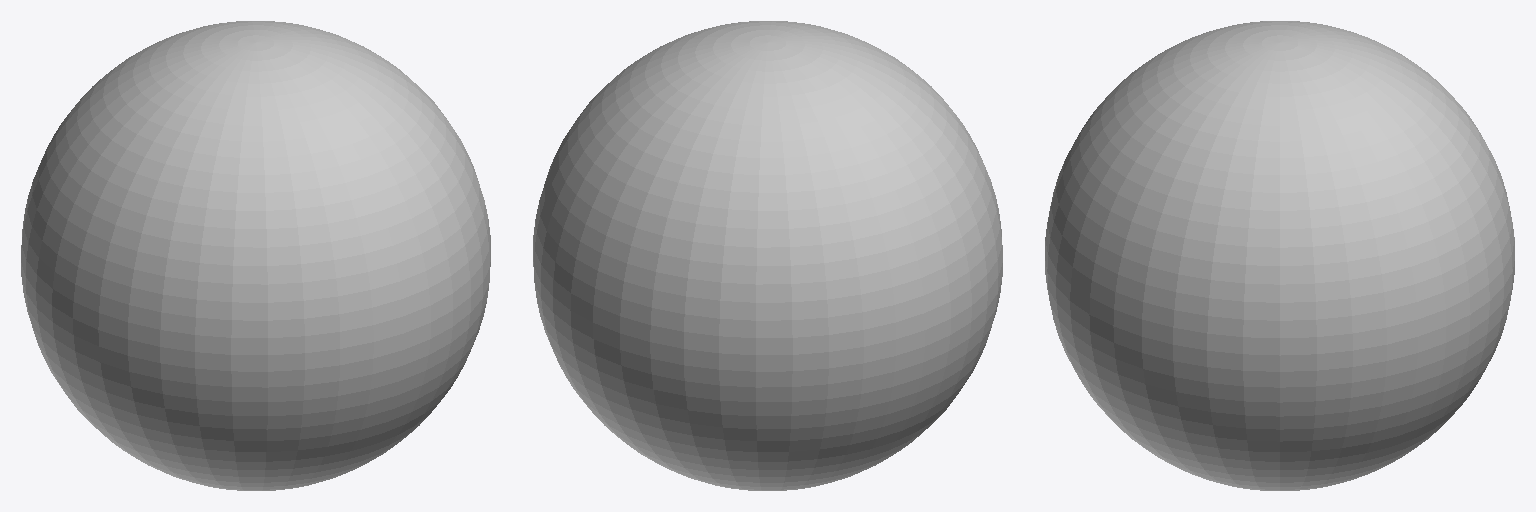
The model's file is theater_background.obj.
3 renders of one model, left to right at view 1: azimuth 30°, elevation 25°; view 2: azimuth 150°, elevation 25°; view 3: azimuth 270°, elevation 25°, orthographic.
Bounding box in the file's own units: 20 × 20 × 20.